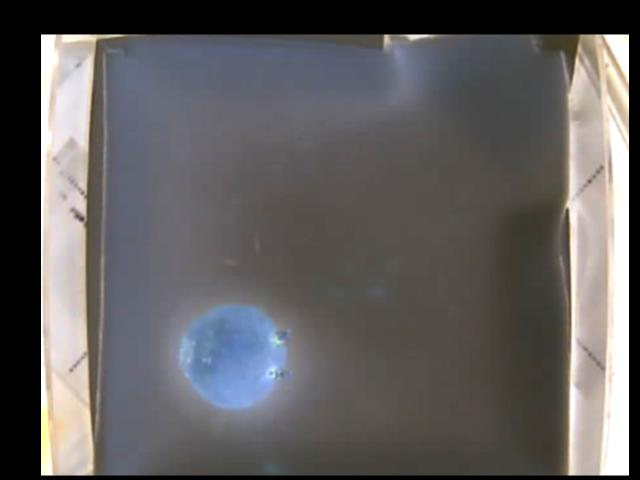Potato: (178, 304, 290, 410)
